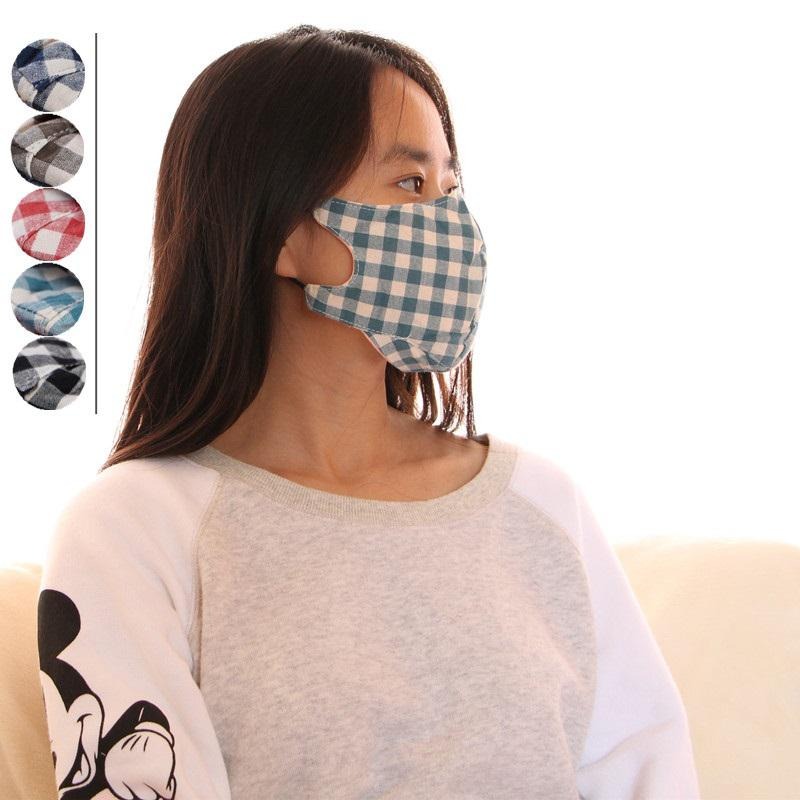OK: (265, 140, 495, 370)
